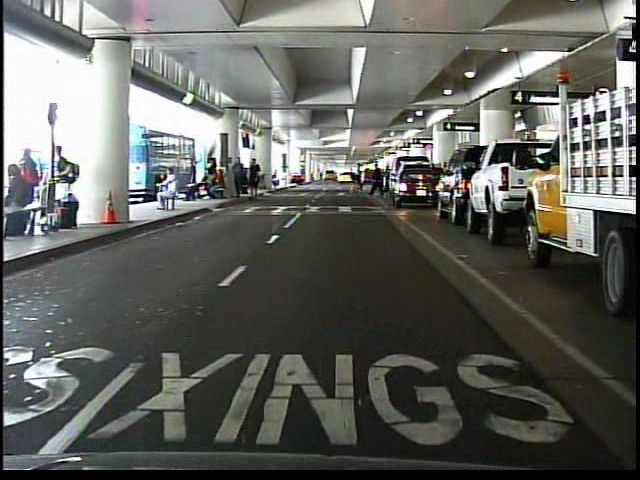person: (151, 168, 181, 215), (369, 158, 388, 202), (347, 160, 369, 197), (185, 155, 201, 205)
